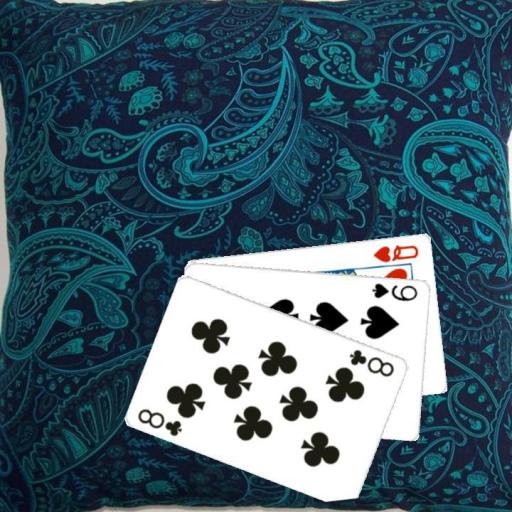8C: (135, 405, 185, 438), (346, 347, 396, 379)
9S: (369, 280, 420, 303)
QH: (371, 241, 421, 264)
